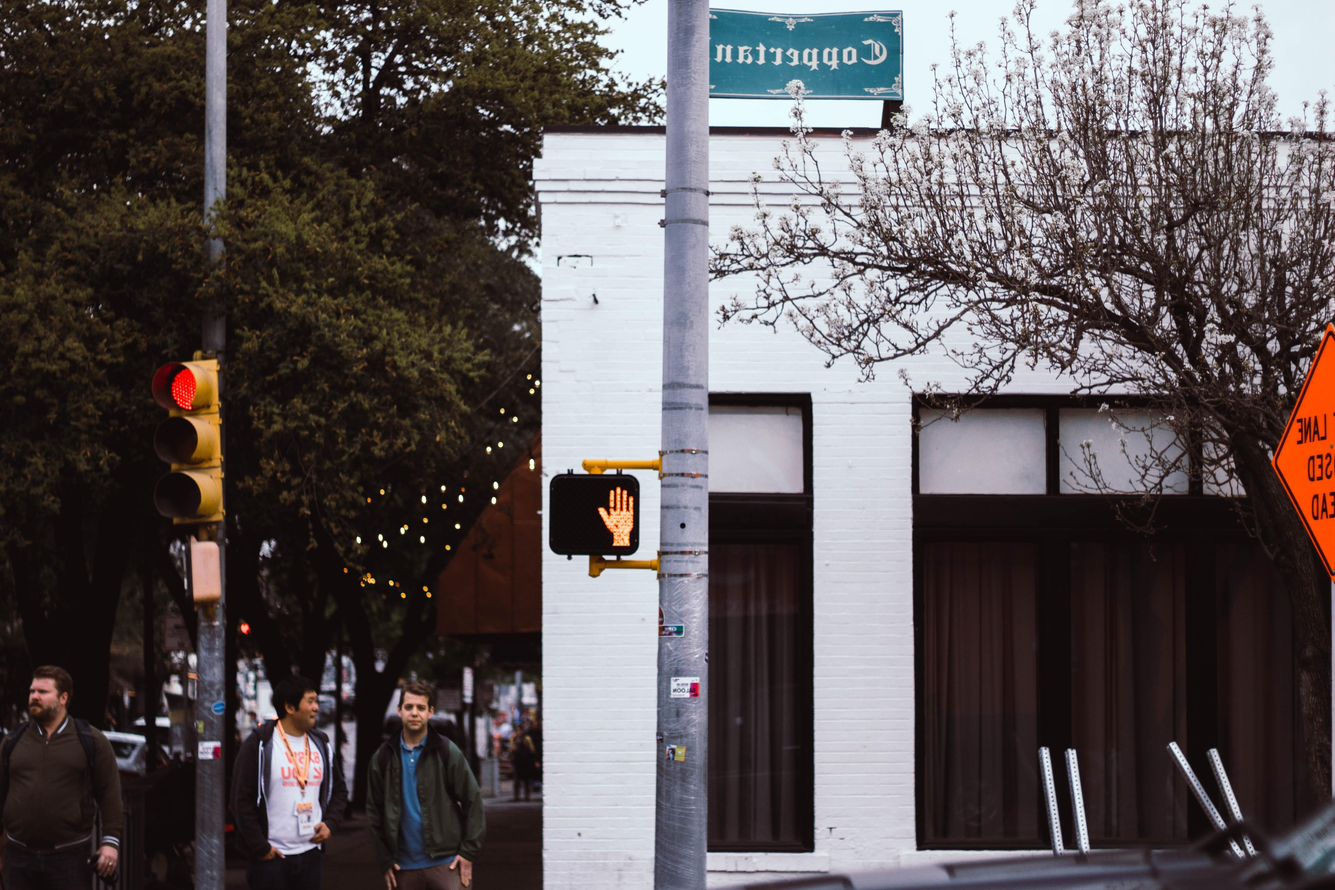red: (147, 358, 232, 541)
